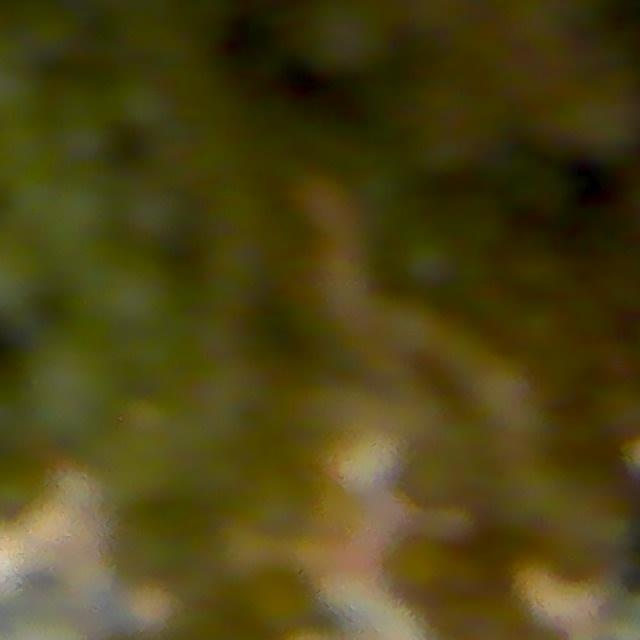SeaGrape: (22, 328, 124, 442), (382, 533, 479, 616), (292, 0, 387, 77), (94, 254, 180, 337), (39, 175, 116, 254), (121, 179, 193, 250), (246, 470, 315, 541), (400, 446, 472, 509), (51, 109, 114, 171), (113, 76, 175, 136)
